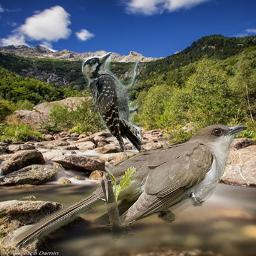Cuckoo: (10, 122, 247, 249)
Woodpecker: (81, 52, 147, 156)
